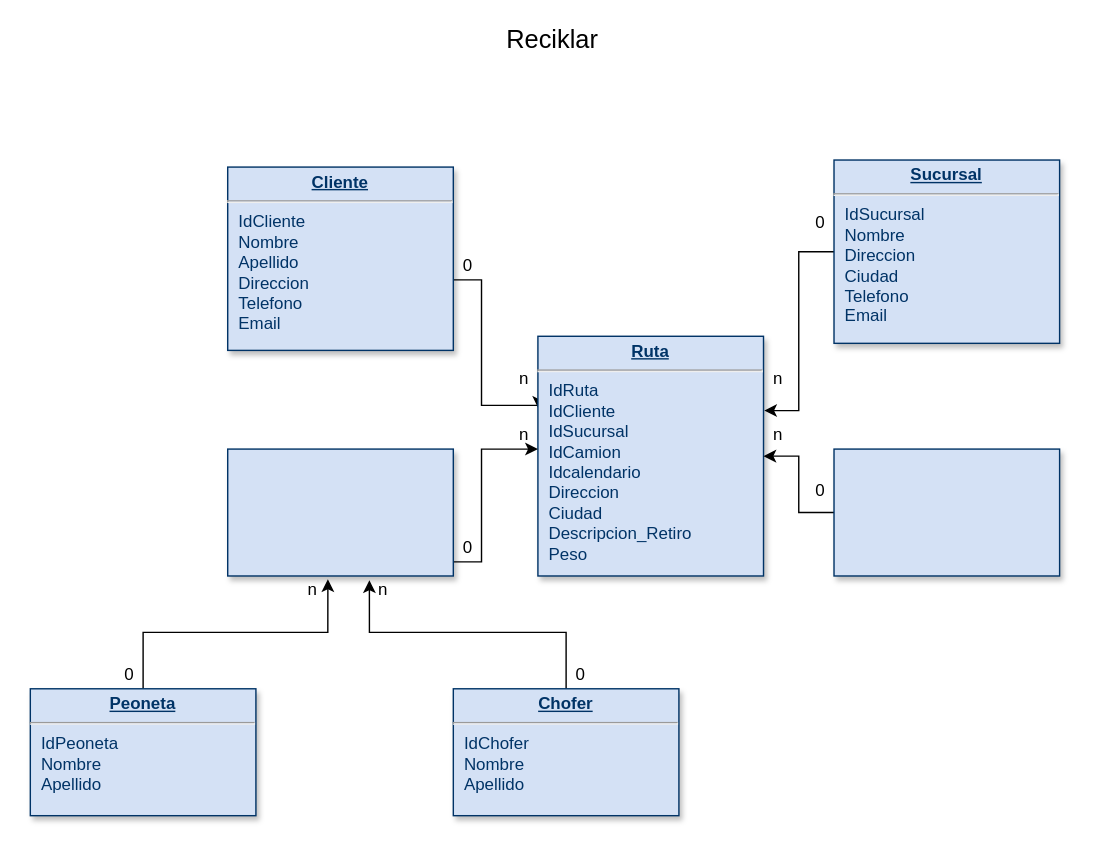
Image size: 1093x850. Some labels were removed from this diagram. The shapes that lost their labels are listed below. From the top down, each one's centre as x and y in pixels, then its label:
At (341,514): "Camion IdCamion IdChofer IdPeoneta".
At (947,514): "Calendario IdCalendario ddmmaa Hora".
